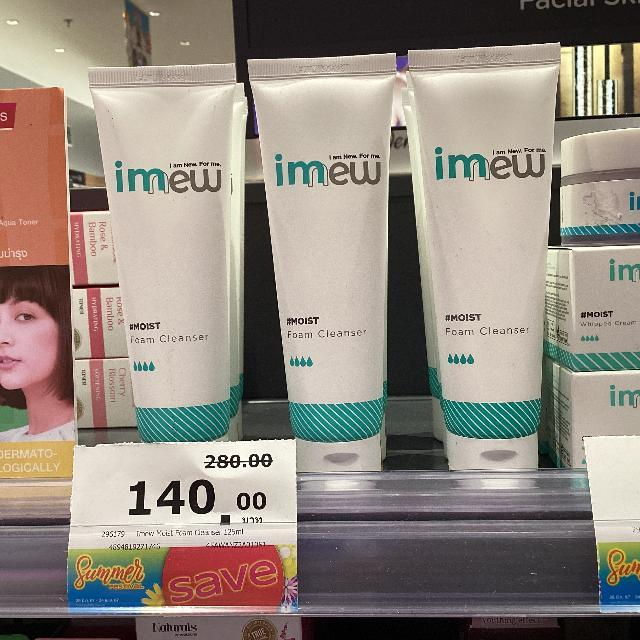Squeeze Tube: (73, 37, 582, 487), (403, 42, 559, 494), (241, 56, 394, 475), (86, 57, 241, 450)
